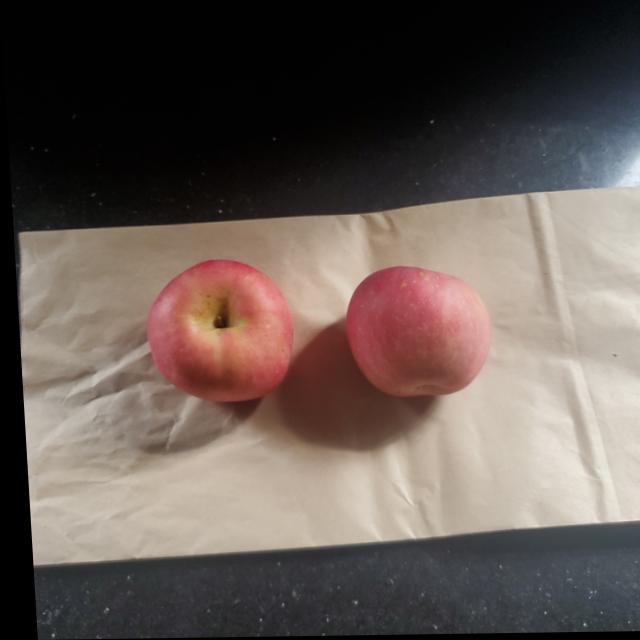apple: (142, 263, 296, 409), (338, 264, 496, 402)
